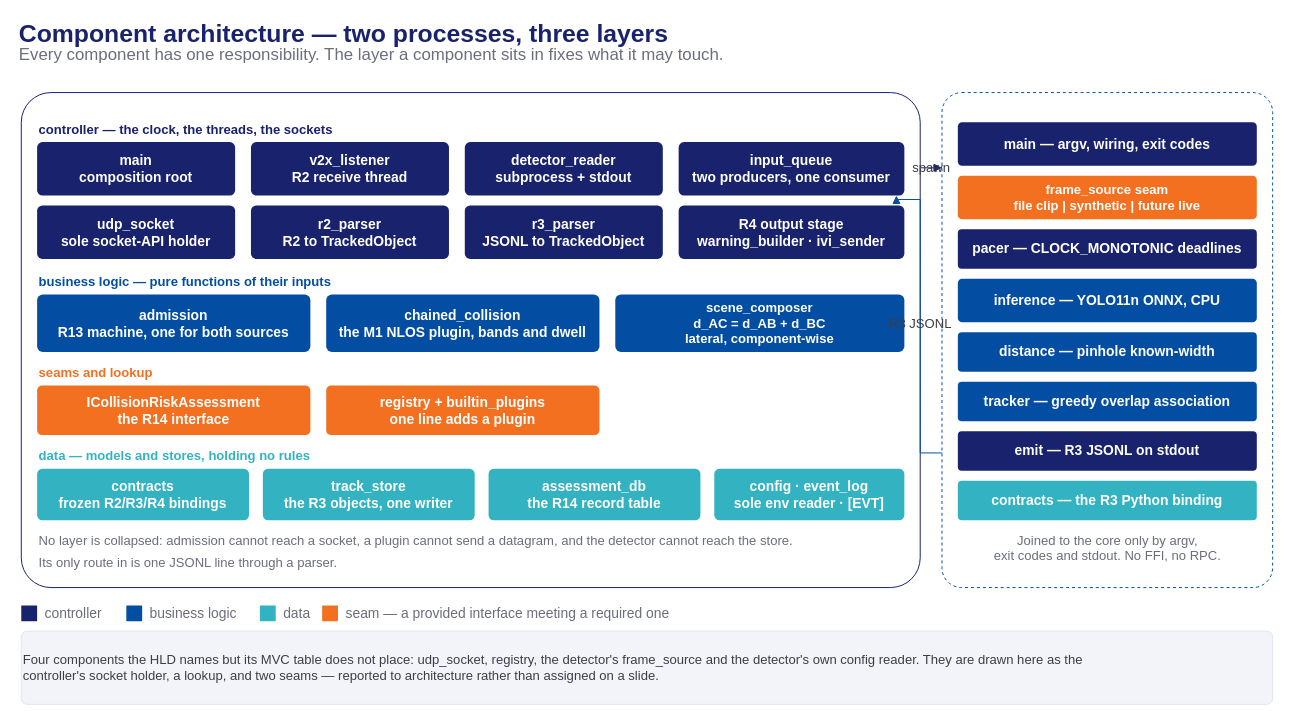
Image size: 1293x722. Some labels were removed from this diagram. Each missing label, with the box of its shape:
ada_ecu core — C++17, one process, three threads: (20, 92, 920, 588)
detector — Python 3.11 subprocess: (941, 92, 1273, 588)
